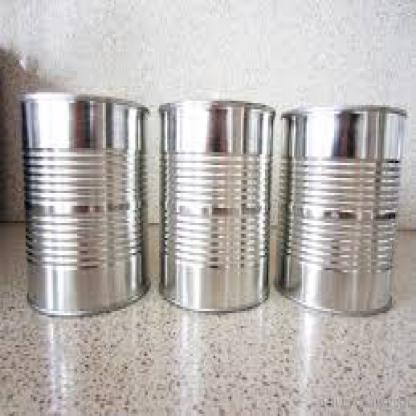METAL: (14, 90, 148, 317), (275, 105, 406, 313), (157, 99, 268, 311)
